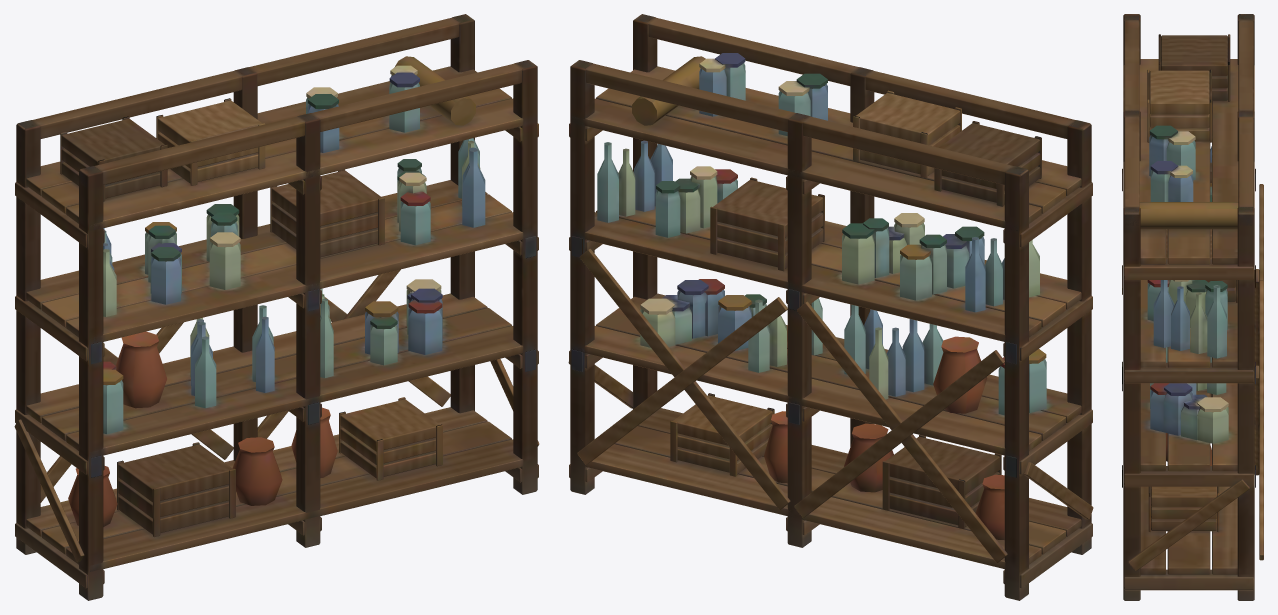
The model's file is rack-long.glb.
3 views of the same model, side by side, from view 1: azimuth 30°, elevation 25°; view 2: azimuth 150°, elevation 25°; view 3: azimuth 270°, elevation 25° (orthographic). The views are drawn at different scales.
Parts seen in each view (by area): view 1: rack-long; view 2: rack-long; view 3: rack-long.
Part boxes in pixels (bbox=[...]): rack-long: bbox=[14, 14, 539, 600]; rack-long: bbox=[568, 14, 1093, 600]; rack-long: bbox=[1122, 14, 1263, 600].
Bounding box in the file's own units: 1.69 × 1.5 × 0.4966.
1 material, 1 textured.
